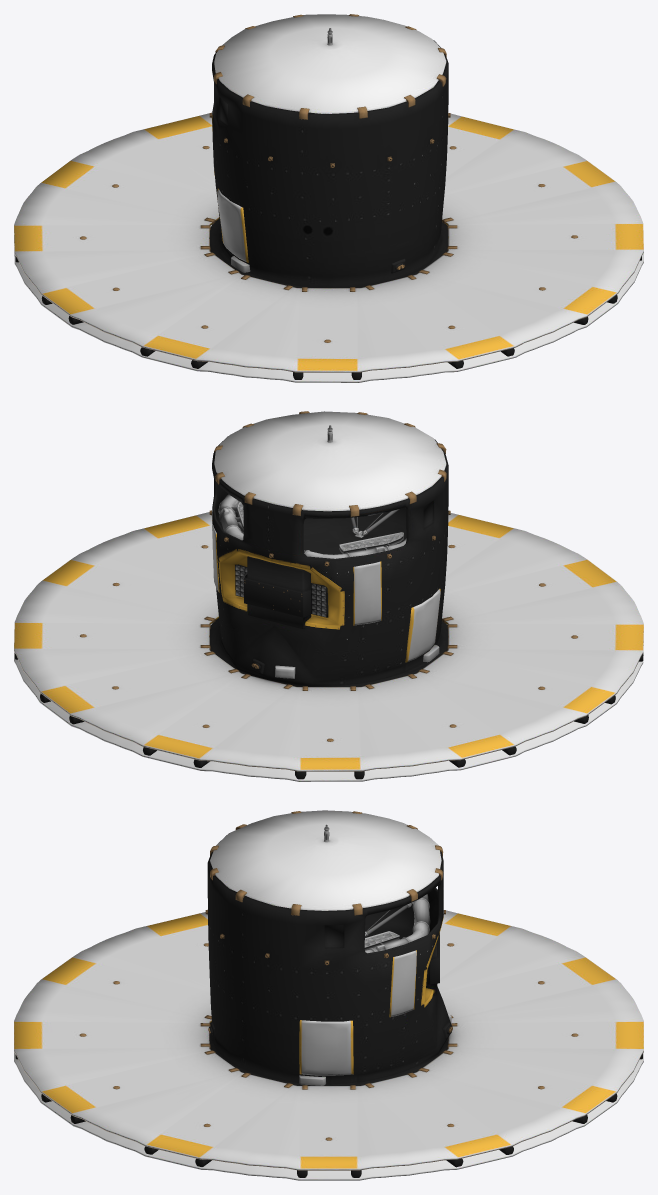
Rendered from sc_gaia.glb.
3 views of the same model, one above another, from view 1: azimuth 30°, elevation 25°; view 2: azimuth 150°, elevation 25°; view 3: azimuth 270°, elevation 25° (orthographic).
Parts seen in each view (by area): view 1: SM_Gaia_low; view 2: SM_Gaia_low; view 3: SM_Gaia_low.
Part boxes in pixels (bbox=[...]): SM_Gaia_low: bbox=[14, 14, 643, 382]; SM_Gaia_low: bbox=[14, 411, 643, 781]; SM_Gaia_low: bbox=[14, 810, 643, 1180].
Size of the model in its own units: 1.86 by 0.7472 by 1.86.
Materials: 2 (2 with a texture image).
